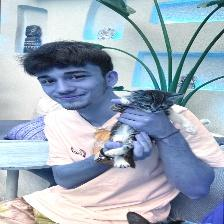kedo: (102, 90, 184, 168)
